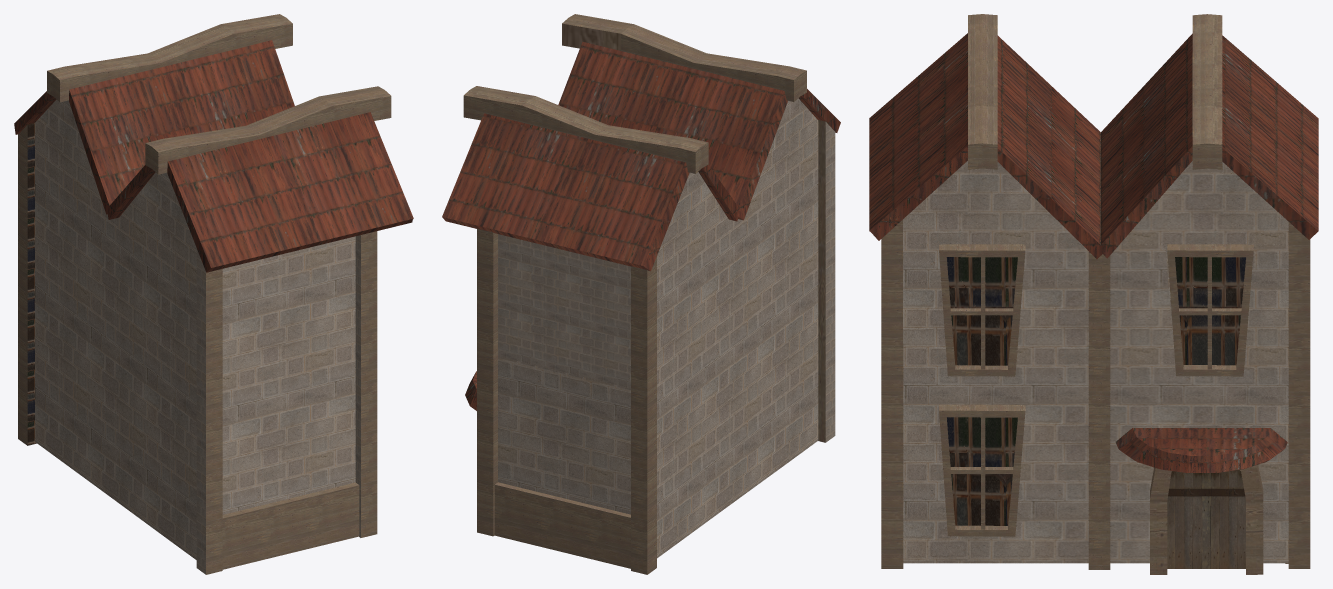
Rendered from OU_AR_House_05_D_.fbx.
The picture shows the model from 3 angles, left to right: view 1: azimuth 30°, elevation 25°; view 2: azimuth 150°, elevation 25°; view 3: azimuth 270°, elevation 25°; orthographic projection. The views are drawn at different scales.
Visible parts, largest first — view 1: OU_AR_House_05_D; view 2: OU_AR_House_05_D; view 3: OU_AR_House_05_D.
Boxes of the visible parts, box(x1,y1,x2,y2) form: OU_AR_House_05_D: box(14, 14, 413, 574); OU_AR_House_05_D: box(442, 14, 840, 574); OU_AR_House_05_D: box(869, 14, 1318, 574).
Size of the model in its own units: 576 by 954 by 844.
5 materials, 5 textured.
